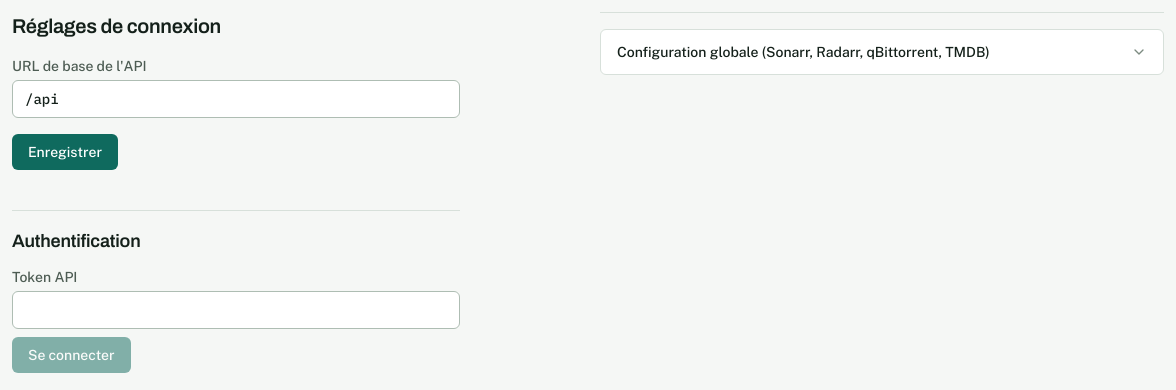
Scenario: SettingsPage - connexion par token › chemin heureux : token valide -> login() appele, statut 'Connecte' affiche
In the password field labelled "Token API": (236, 310) top-left (12, 291), bottom-right (460, 329), type "mon-token-secret"
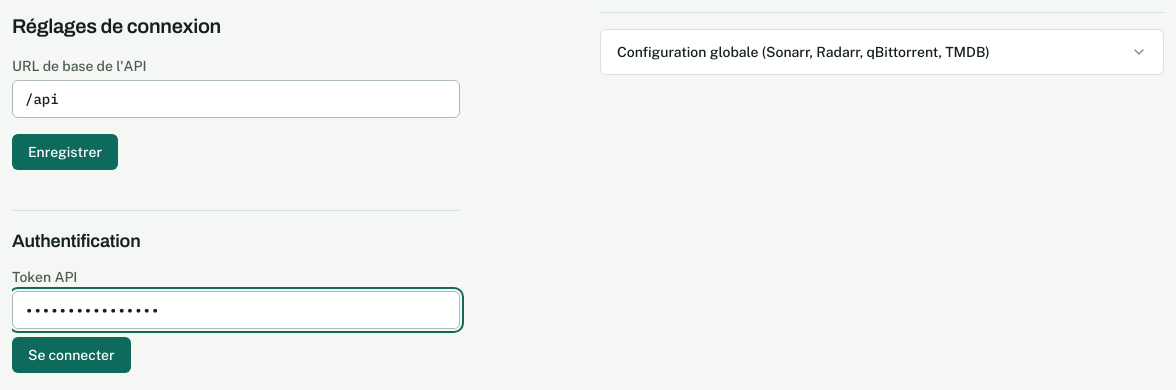
Click the button "Se connecter": (71, 355) top-left (12, 337), bottom-right (130, 373)
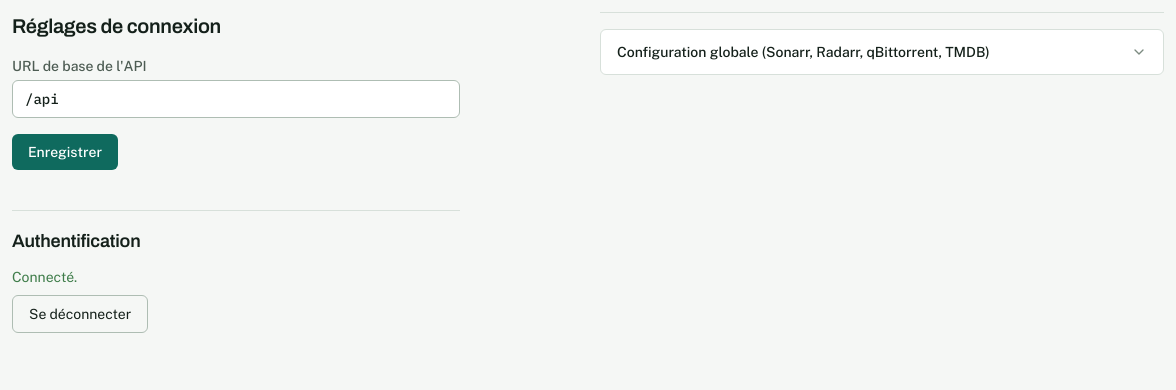
Now the text "Connecté." is shown, box top-left (12, 269), bottom-right (77, 285)
